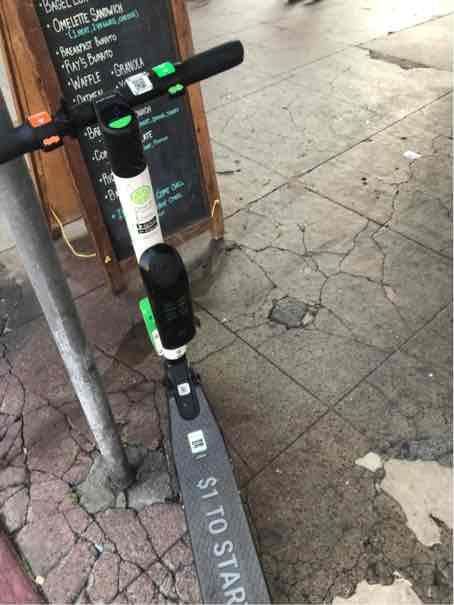scooter: (3, 57, 326, 605)
